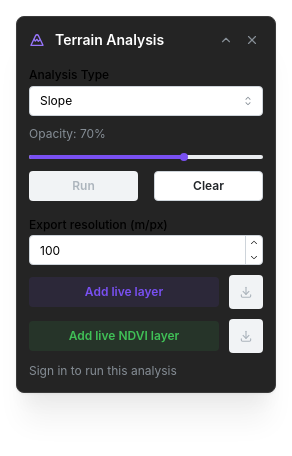
it: TerrainAnalysisPanel live layer action › adds the ndvi layer regardless of the selected op
What coordinates should you click on to do the following:
click the button "Add live NDVI layer"
I would click on:
 (124, 336)
Its box is [29,321,219,351].
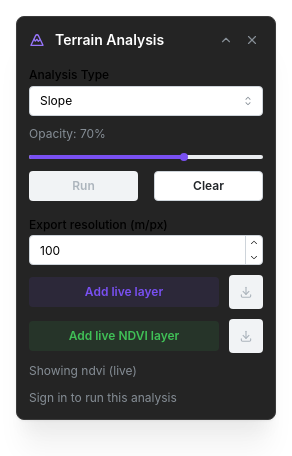
Result: the text with test id "terrain-live-status" shows "ndvi (live)" at [29,363,137,378]
